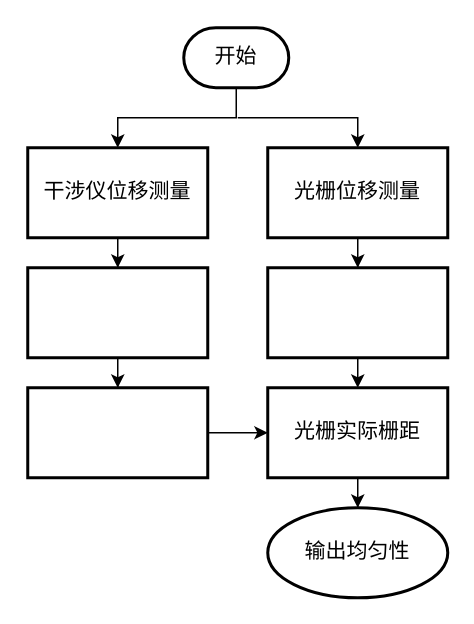
Image size: 474x624. Some labels were removed from this diagram. The centre of each missing label's shape, as x and y in pixels:
"实际运动位移" goes at (357,312).
"理论运动位移" goes at (117,312).
"理论运动栅线数" goes at (117,432).
